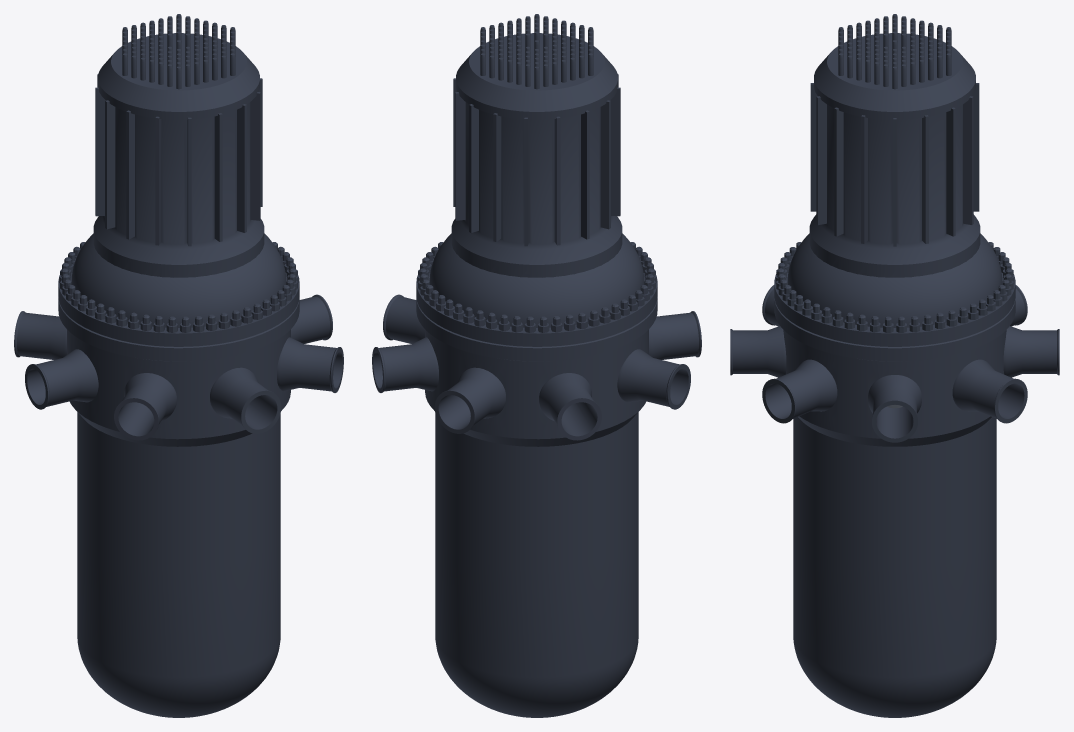
The model's file is vver1200_rpv.glb.
The picture shows the model from 3 angles, left to right: view 1: azimuth 30°, elevation 25°; view 2: azimuth 150°, elevation 25°; view 3: azimuth 270°, elevation 25°; orthographic projection.
Visible parts, largest first — view 1: RPV_Vessel; view 2: RPV_Vessel; view 3: RPV_Vessel.
Boxes of the visible parts, x1=… form: RPV_Vessel: x1=14, y1=14, x2=343, y2=717; RPV_Vessel: x1=372, y1=14, x2=701, y2=717; RPV_Vessel: x1=730, y1=14, x2=1059, y2=717.
Size of the model in its own units: 7.5 by 16.72 by 7.5.
